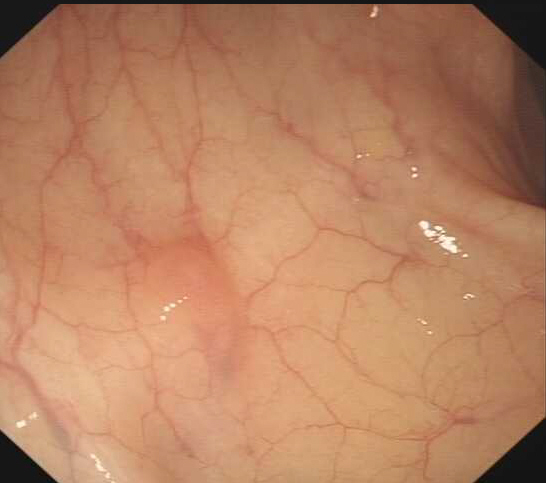adenoma: (141, 245, 248, 386)
